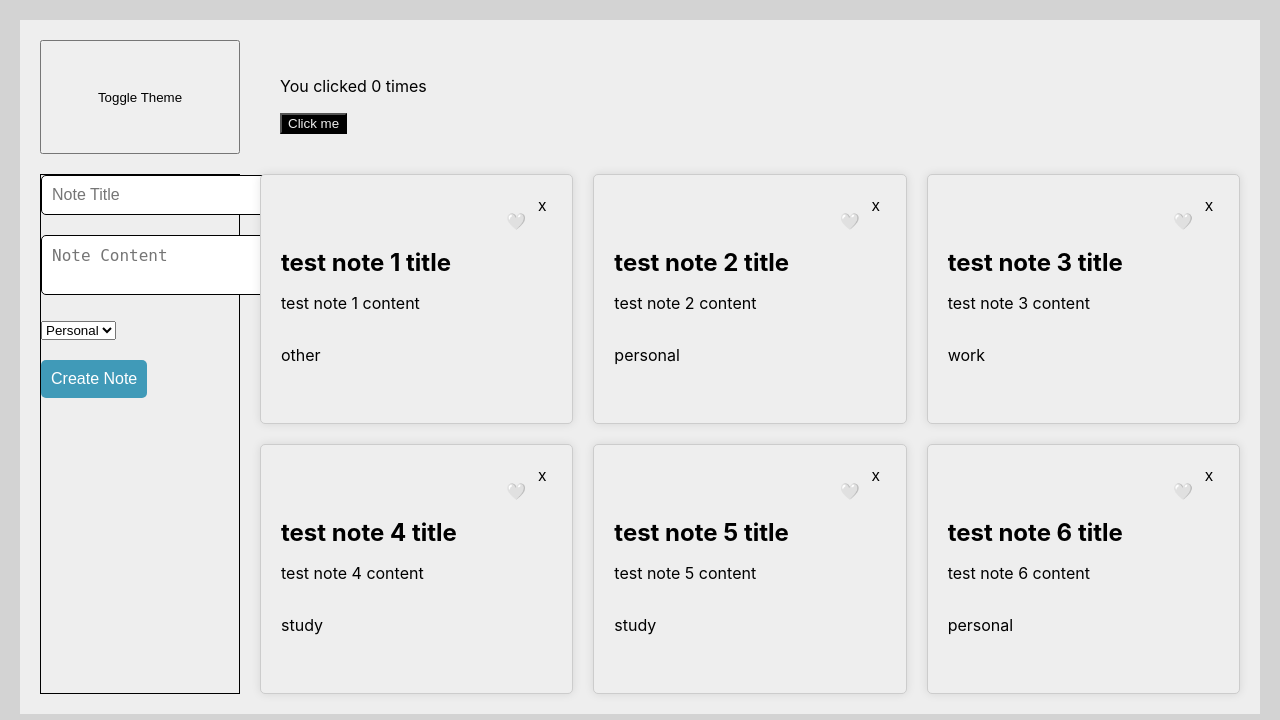
delete one note
The image size is (1280, 720).
Step 1. Click the 1st button "x" → (542, 206), box x1=532 y1=196 x2=552 y2=216
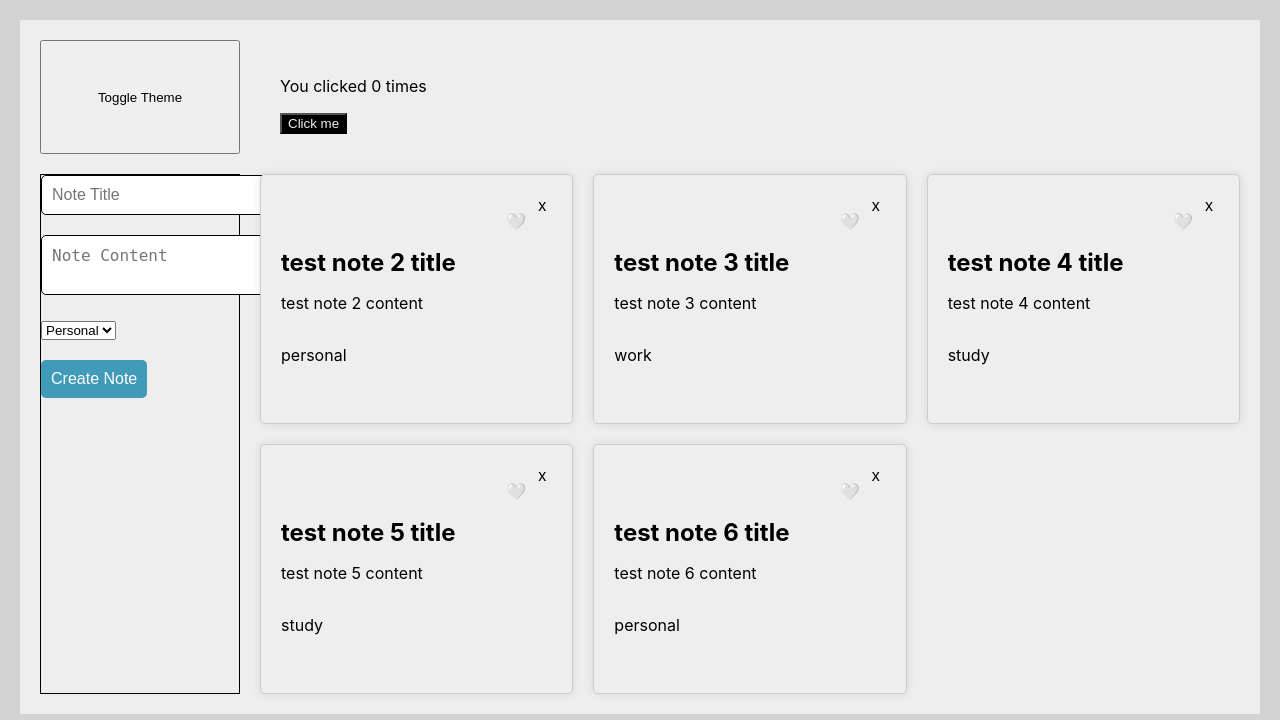
Expected: the number of buttons "x" is 5, x1=532 y1=196 x2=552 y2=216; x1=866 y1=196 x2=886 y2=216; x1=1199 y1=196 x2=1219 y2=216; x1=532 y1=466 x2=552 y2=486; x1=866 y1=466 x2=886 y2=486
